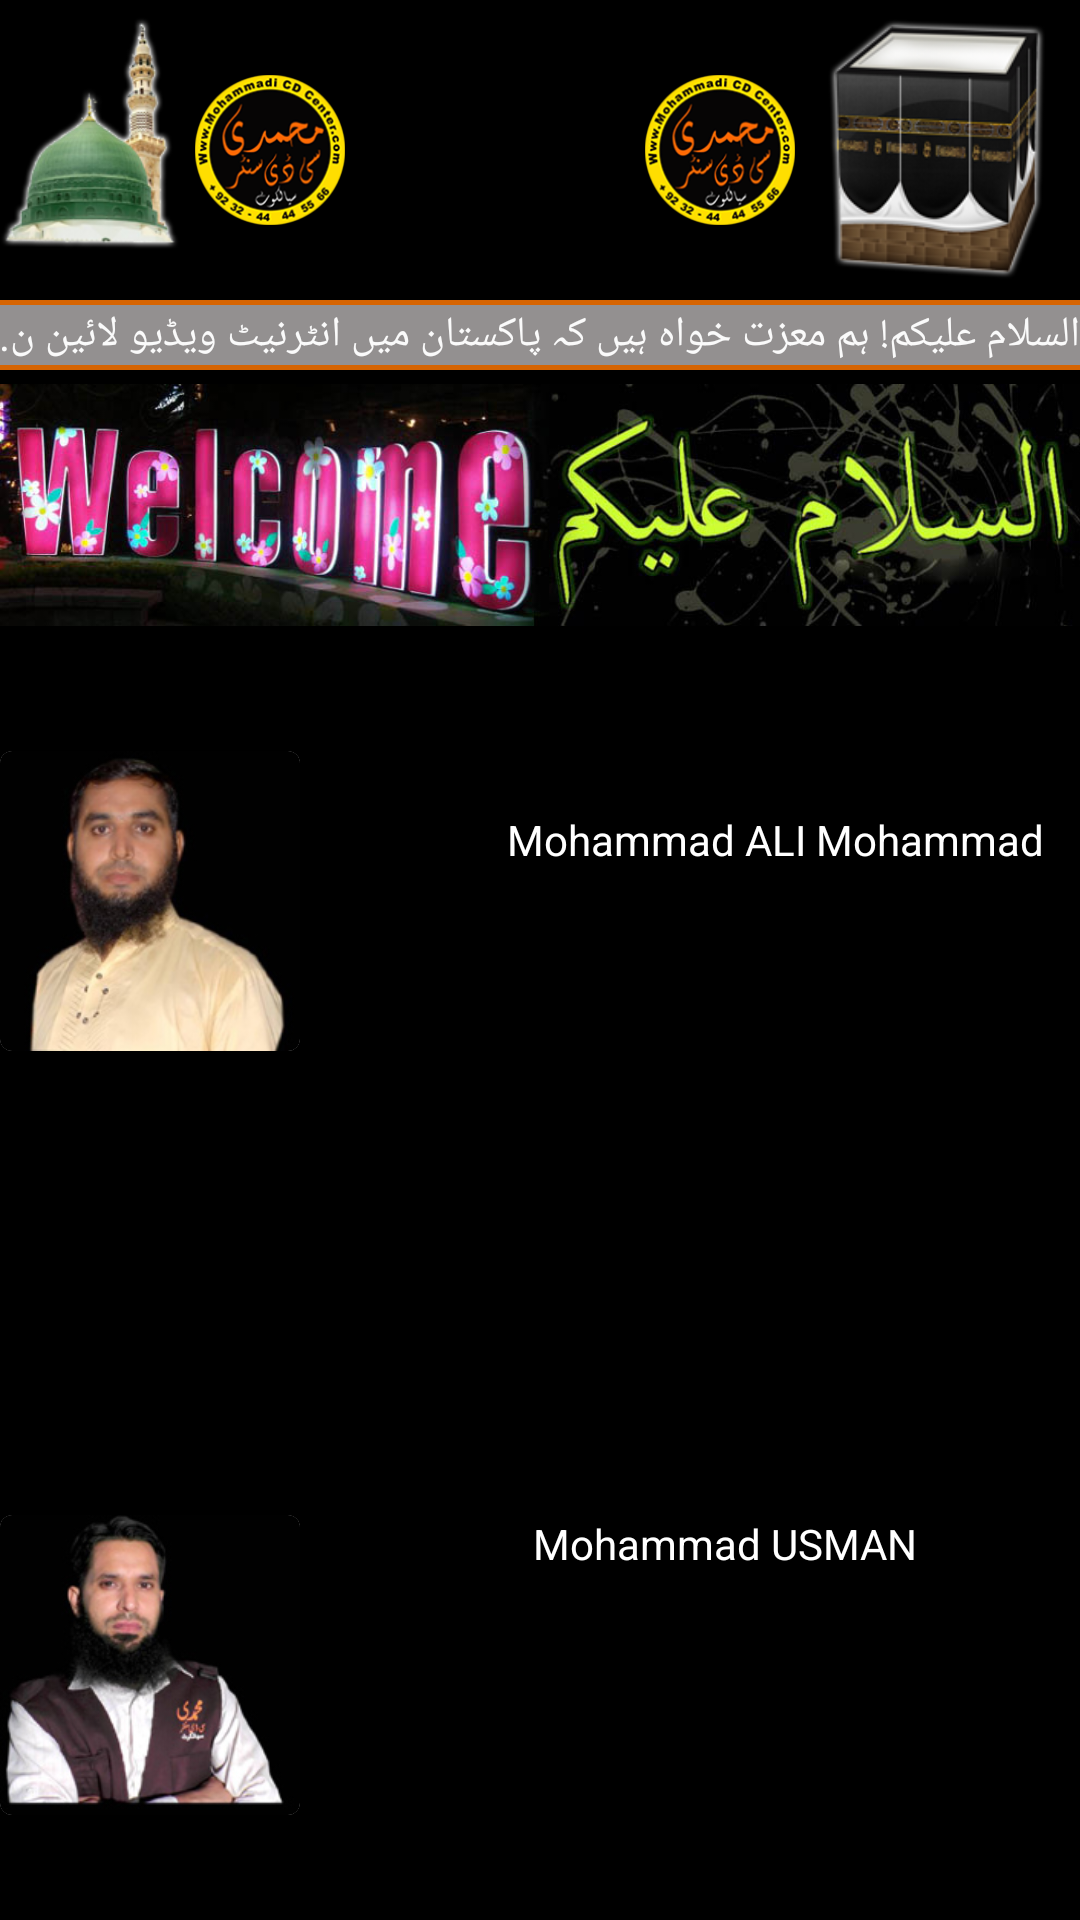

Point at icon controls on the screen. Image size 1080 x 1920, points as (x,y).
makkah: (937,149)
roza rasool: (90,134)
